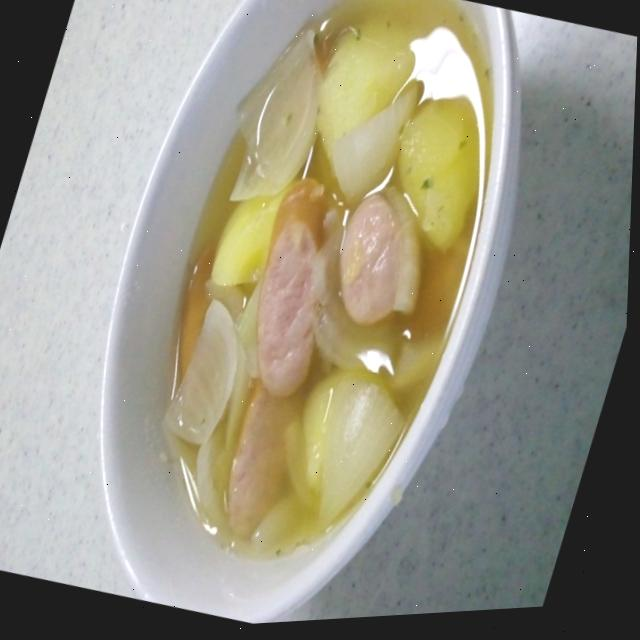汤锅炖物: (10, 0, 601, 639)
